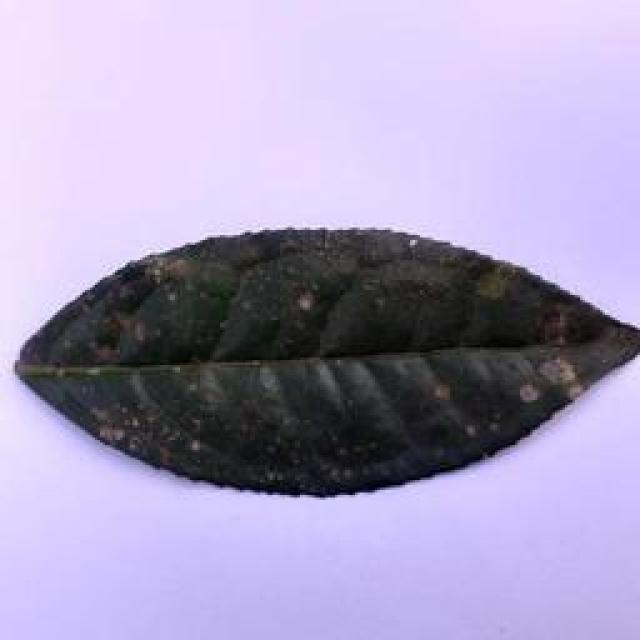Algal Leaf Spot: (18, 220, 640, 496)
